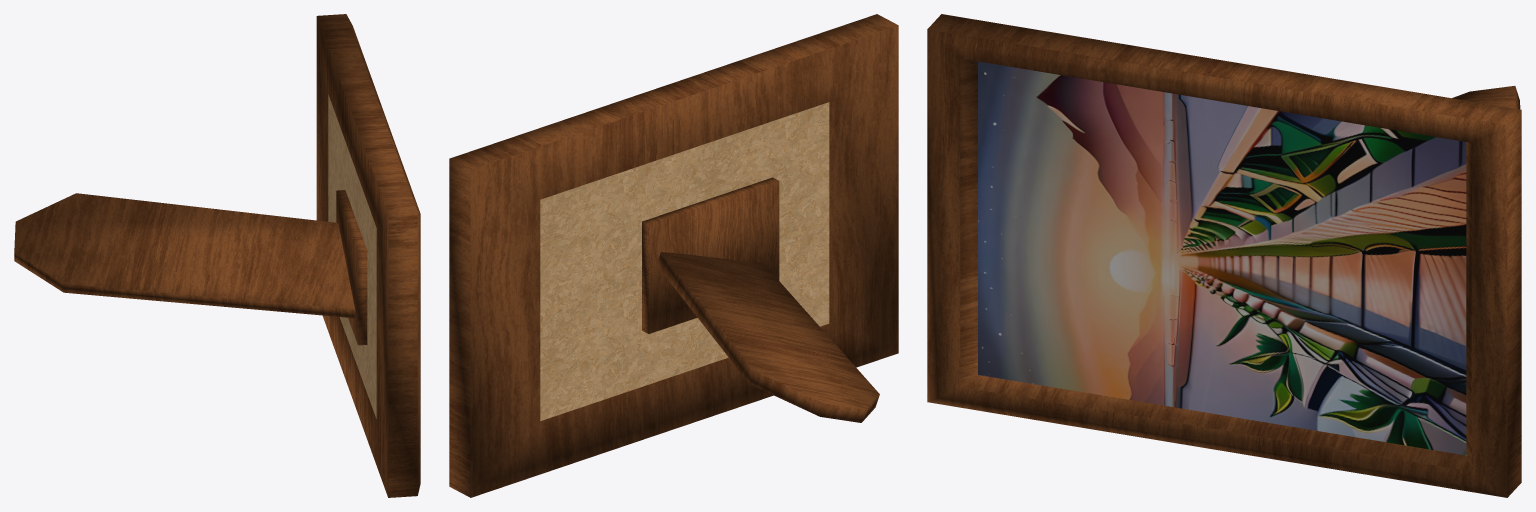
The model's file is Img1.fbx.
3 views of the same model, side by side, from view 1: azimuth 30°, elevation 25°; view 2: azimuth 150°, elevation 25°; view 3: azimuth 270°, elevation 25° (orthographic). The views are drawn at different scales.
Parts seen in each view (by area): view 1: Sup2, Sup1, Sup1Back; view 2: Sup1, Sup1Back, Sup2; view 3: Img, Sup1, Sup2.
Part boxes in pixels (left/top/right/bottom): Sup2: left=14, top=193, right=355, bottom=318; Sup1: left=316, top=14, right=420, bottom=497; Sup1Back: left=328, top=94, right=376, bottom=418; Sup1: left=449, top=14, right=898, bottom=497; Sup1Back: left=540, top=102, right=829, bottom=420; Sup2: left=657, top=252, right=879, bottom=422; Img: left=978, top=61, right=1466, bottom=455; Sup1: left=927, top=14, right=1521, bottom=497; Sup2: left=1452, top=86, right=1520, bottom=109.
Bounding box in the file's own units: 3.11 × 2.43 × 3.52.
